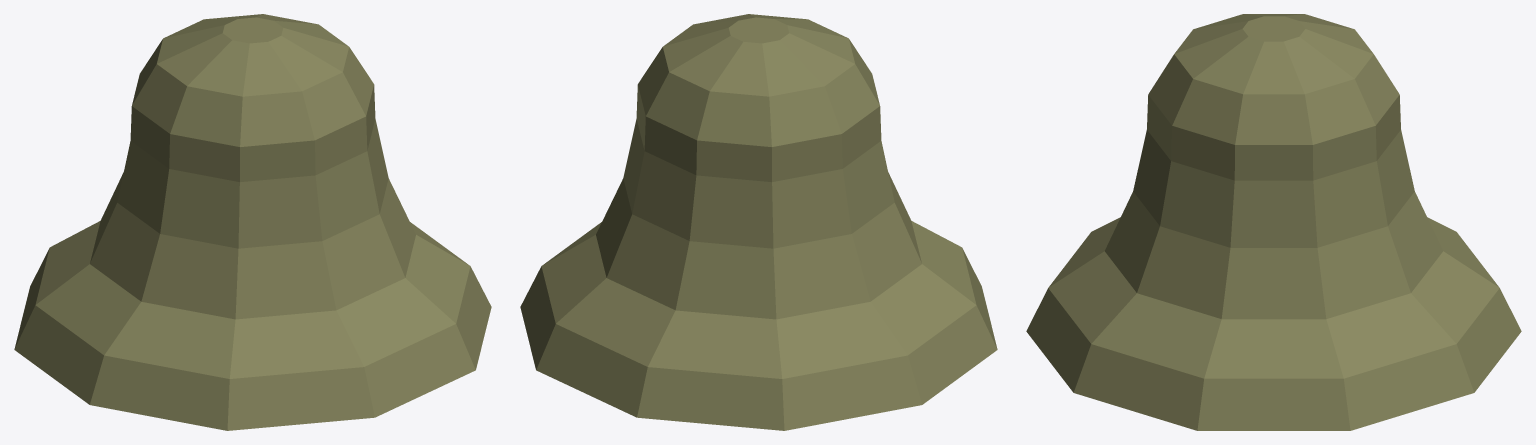
The model's file is Bell0.fbx.
3 views of the same model, side by side, from view 1: azimuth 30°, elevation 25°; view 2: azimuth 150°, elevation 25°; view 3: azimuth 270°, elevation 25° (orthographic).
Visible parts, largest first — view 1: pCylinder3; view 2: pCylinder3; view 3: pCylinder3.
Boxes of the visible parts, bbox=[...] form: pCylinder3: bbox=[14, 14, 491, 430]; pCylinder3: bbox=[520, 14, 997, 430]; pCylinder3: bbox=[1026, 14, 1521, 430].
Size of the model in its own units: 6.69 by 4.74 by 7.04.
